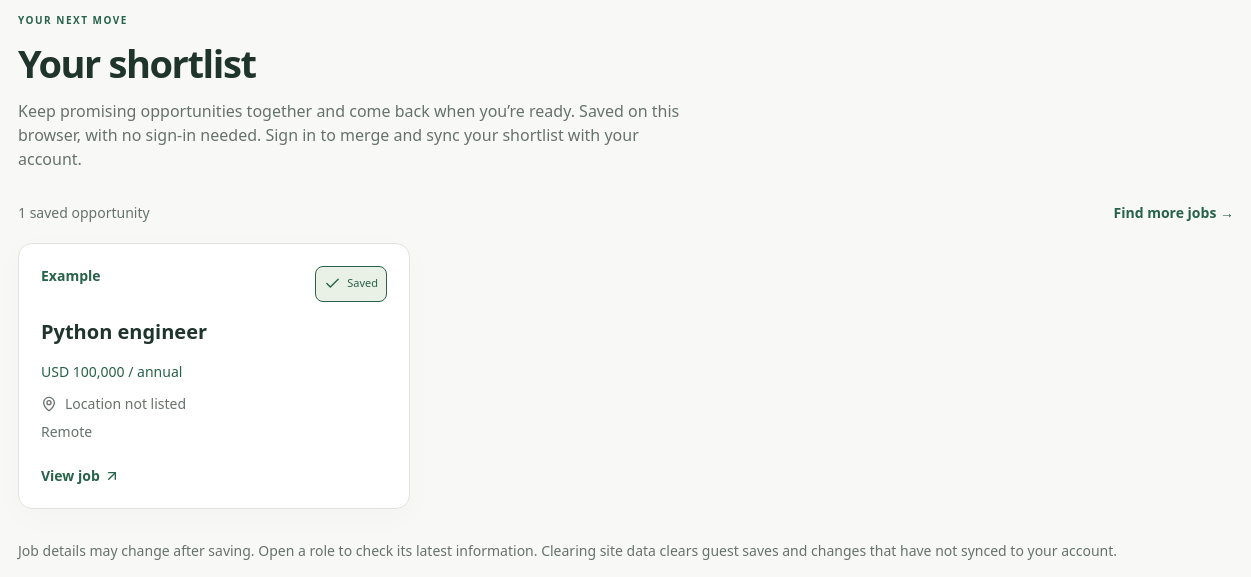
Test: browser shortlist › restores a persisted shortlist and shows its browser-local scope
Check: the text "USD 100,000 / annual" is shown, box [41,362,182,381]
Check: the text "Saved on this browser" is shown, box [18,100,679,170]
Click the button with aria-label "Remove saved job Python engineer".
click(351, 284)  # box [315,266,387,302]
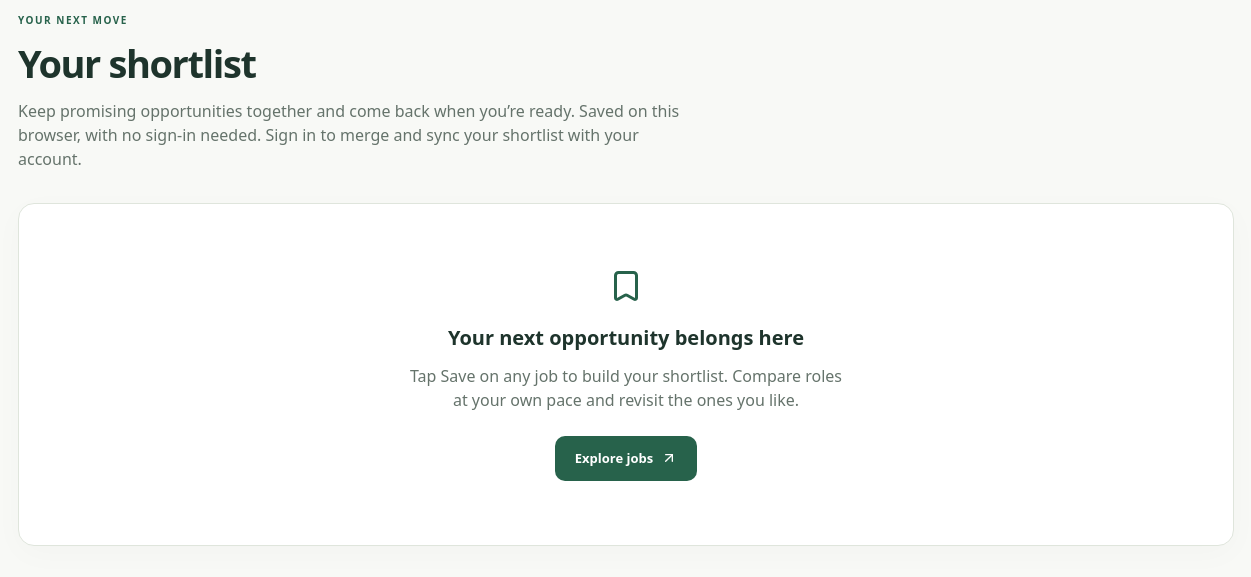
Check: the link "Explore jobs" is shown, box [555,436,697,481]
